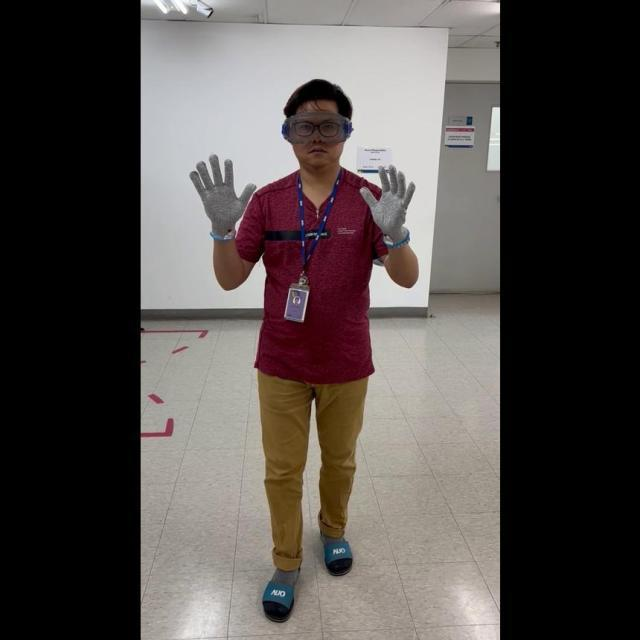gloved_hand: (188, 149, 255, 240), (359, 161, 415, 248)
